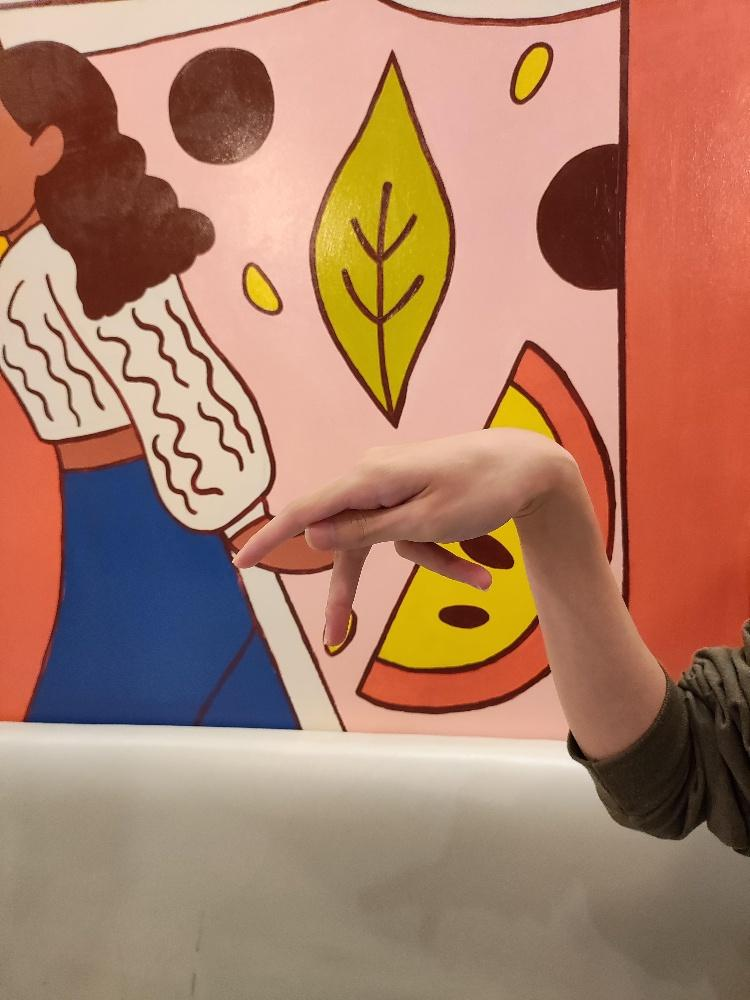p: (228, 423, 559, 649)
